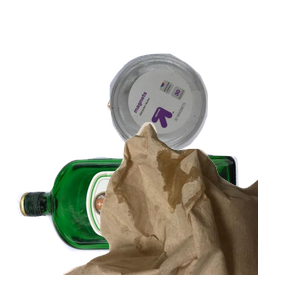glass: (14, 150, 247, 300)
metal: (105, 63, 300, 192)
plastic: (107, 51, 300, 199)
trash: (60, 120, 300, 300)
